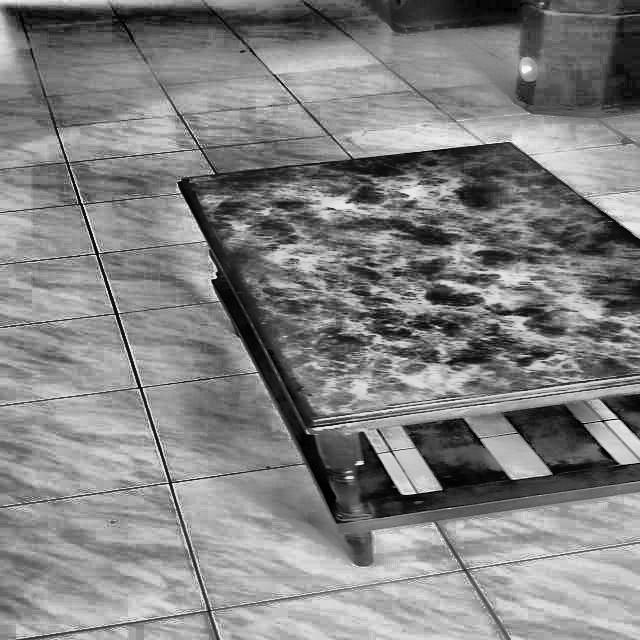mesa: (168, 137, 640, 568)
